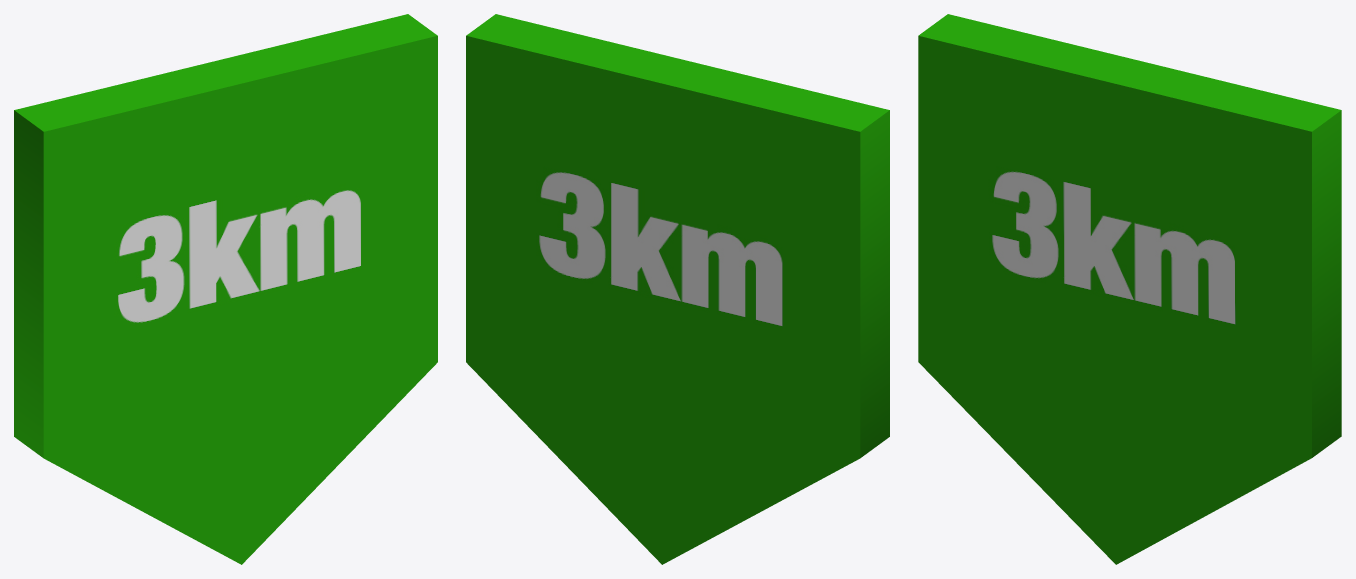
The model's file is 3km marker.fbx.
3 renders of one model, left to right at view 1: azimuth 30°, elevation 25°; view 2: azimuth 150°, elevation 25°; view 3: azimuth 330°, elevation 25°, orthographic.
Visible parts, largest first — view 1: pCube1; view 2: pCube1; view 3: pCube1.
Part boxes in pixels (box(x1,y1,x2,y2)): pCube1: box(14, 14, 437, 564); pCube1: box(466, 14, 889, 564); pCube1: box(918, 14, 1341, 564).
Size of the model in its own units: 3.96 by 4.62 by 0.5166.
Materials: 1 (1 with a texture image).
